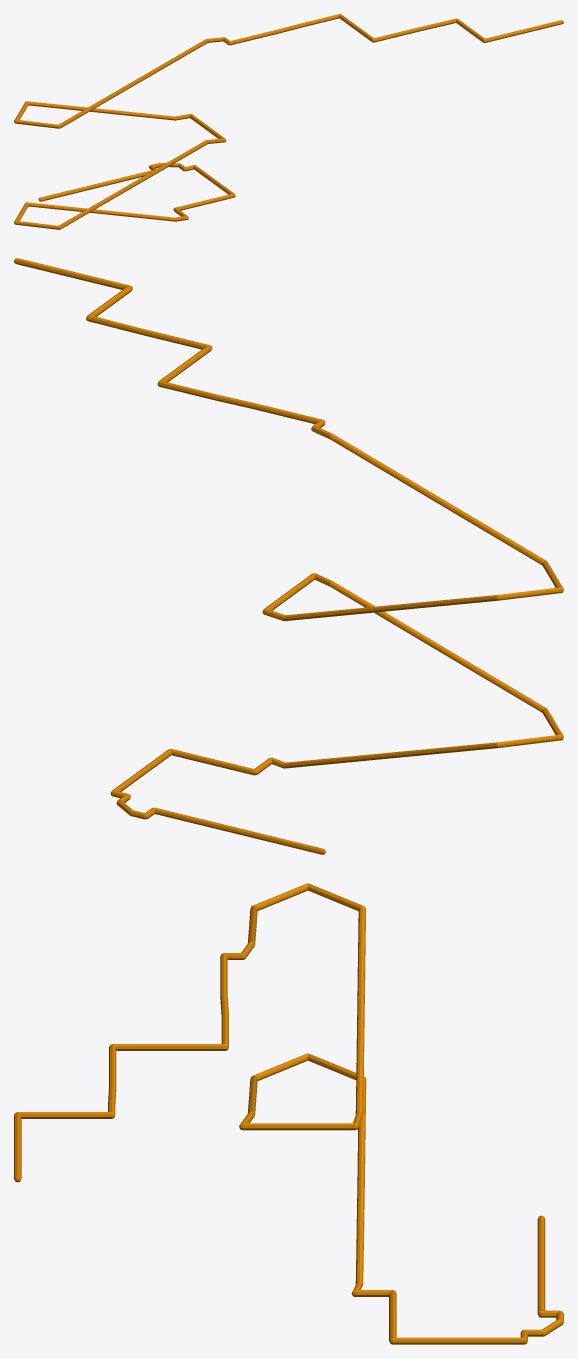
3 views of the same model, one above another, from view 1: azimuth 30°, elevation 25°; view 2: azimuth 150°, elevation 25°; view 3: azimuth 270°, elevation 25° (orthographic). The views are drawn at different scales.
Size of the model in its own units: 2398 by 1020 by 1465.
